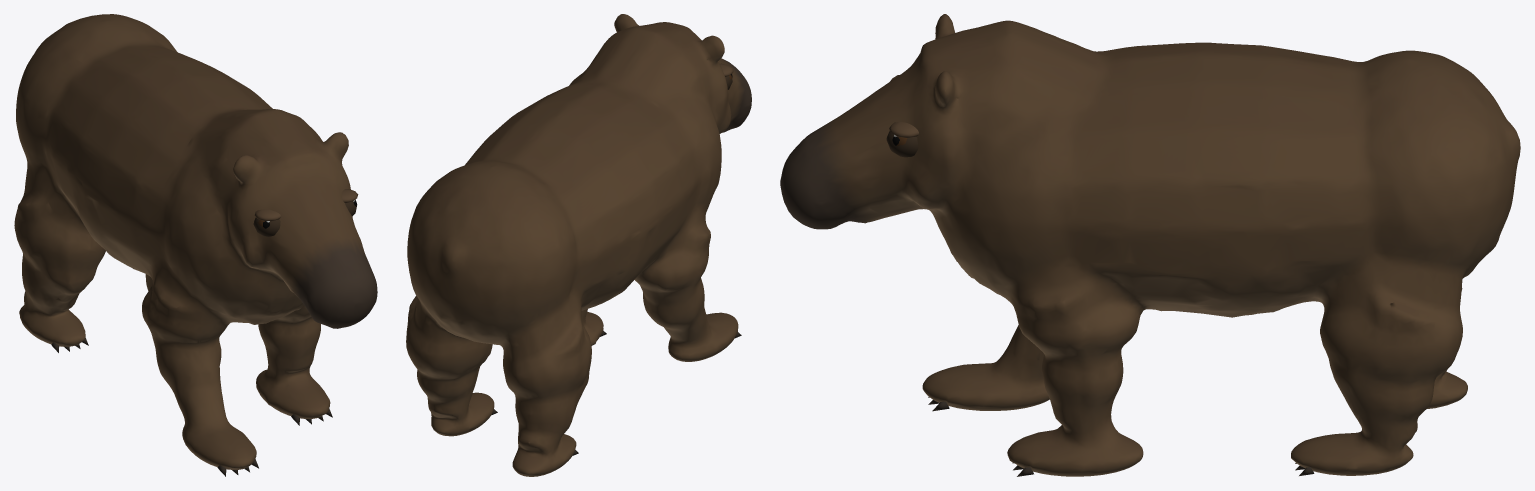
The model's file is NimbadonLavarackorum.fbx.
3 renders of one model, left to right at view 1: azimuth 30°, elevation 25°; view 2: azimuth 150°, elevation 25°; view 3: azimuth 270°, elevation 25°, orthographic. The views are drawn at different scales.
Visible parts, largest first — view 1: NimbadonLavarackorum; view 2: NimbadonLavarackorum; view 3: NimbadonLavarackorum.
Boxes of the visible parts, <box> form: NimbadonLavarackorum: <box>14,14,377,476</box>; NimbadonLavarackorum: <box>406,14,751,476</box>; NimbadonLavarackorum: <box>780,14,1520,476</box>.
Size of the model in its own units: 0.4995 by 0.8691 by 1.42.
